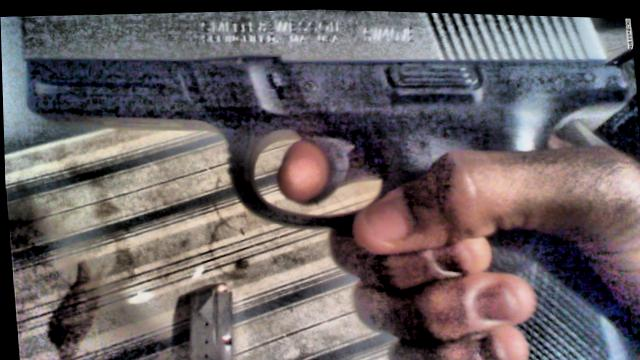pistol: (17, 0, 640, 360)
